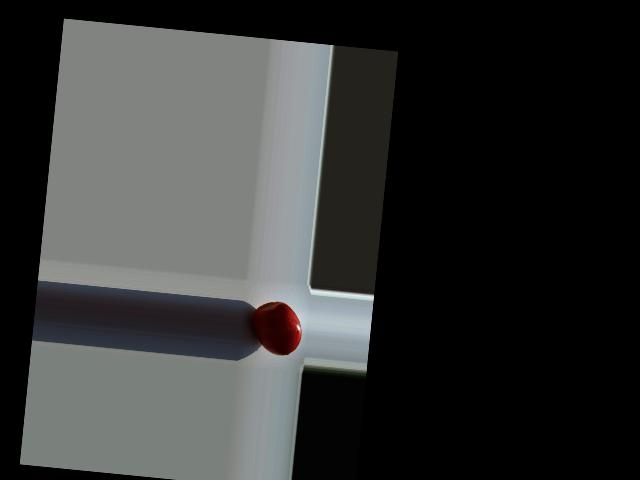tomato: (249, 299, 304, 357)
